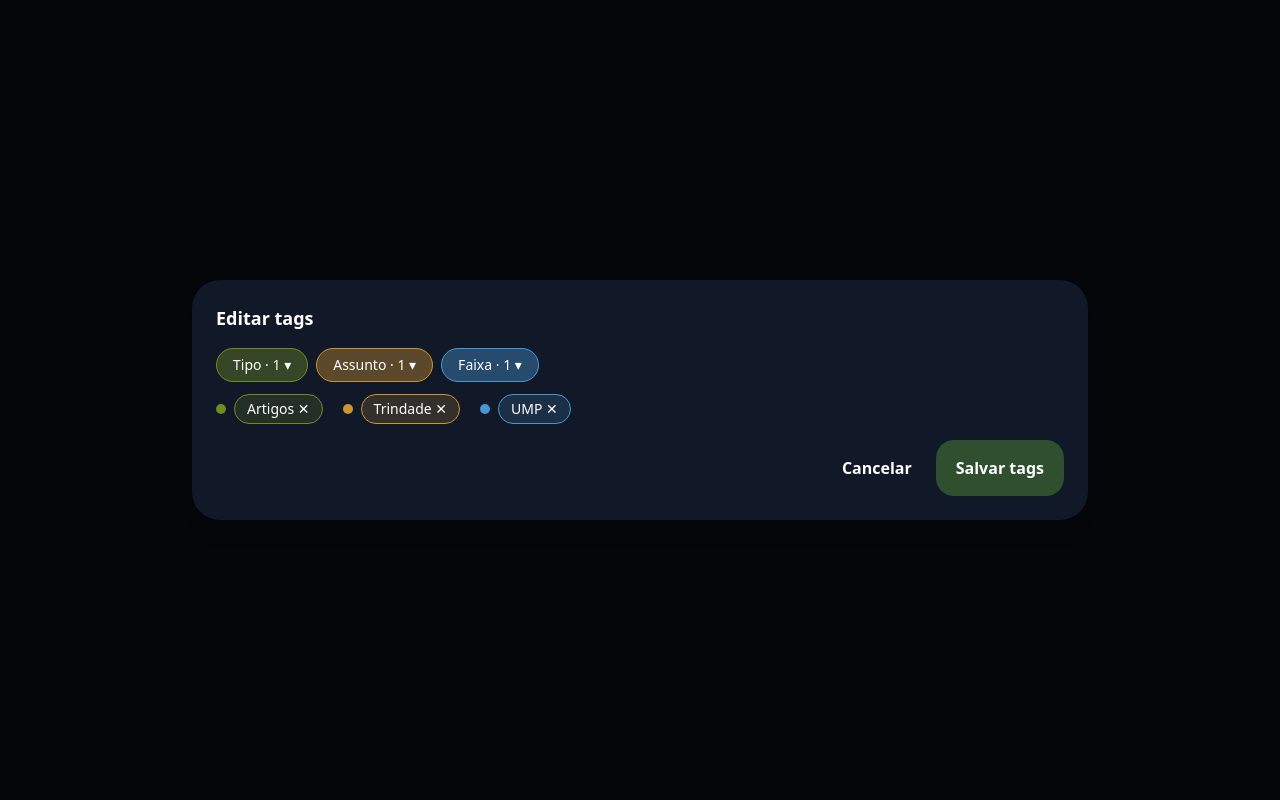
Test: TagEditDialog › não deixa esvaziar um tipo de tag
Click the button "Tipo · 1 ▾".
click(262, 365)  # box [216,348,308,382]
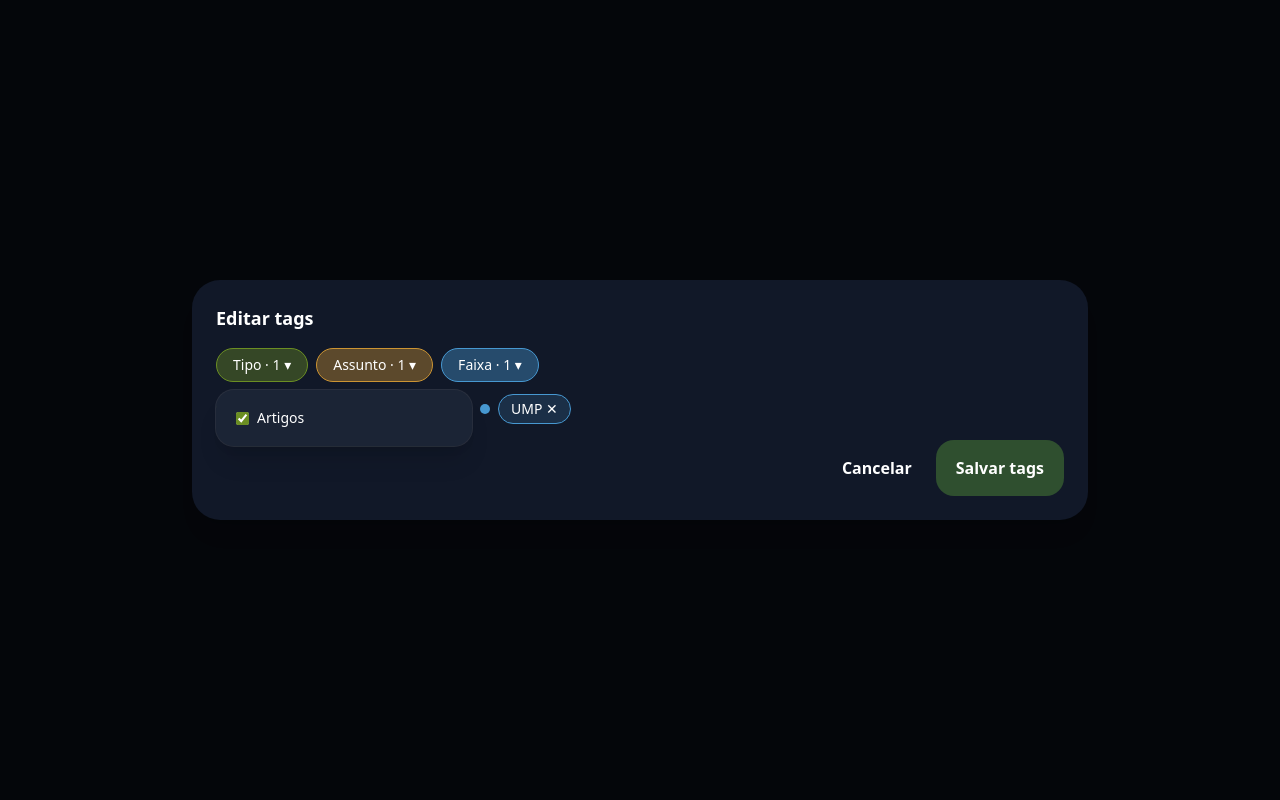
Click the button "Assunto · 1 ▾".
click(375, 365)  # box [316,348,433,382]
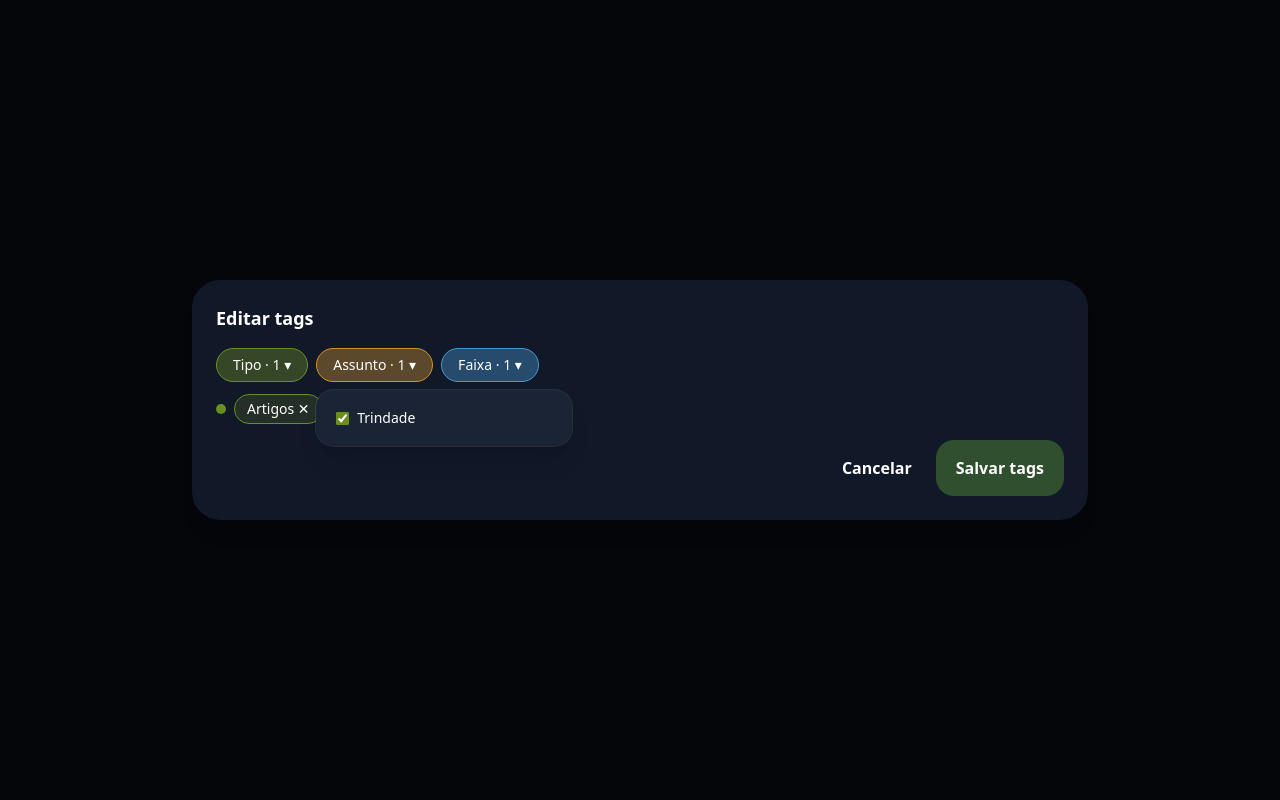
Click the button "Faixa · 1 ▾".
click(490, 365)  # box [441,348,539,382]
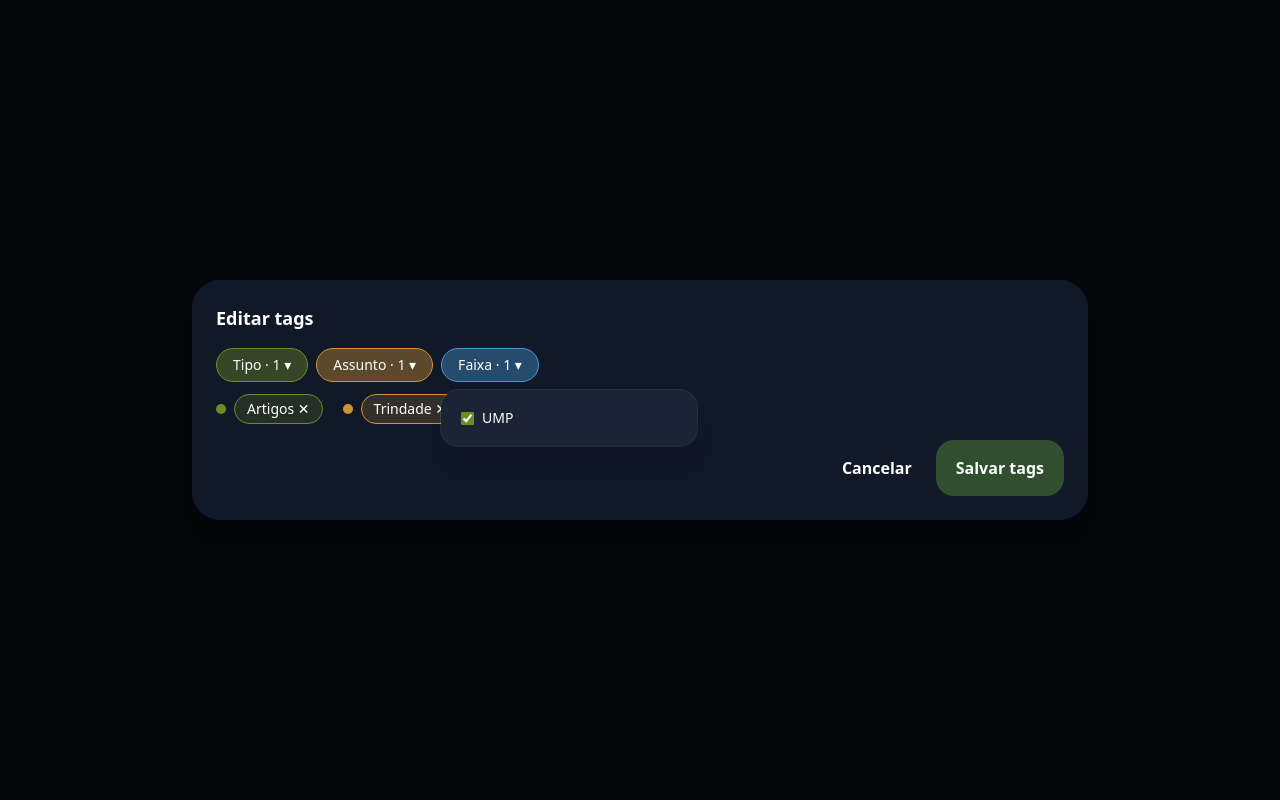
Click the checkbox labelled "UMP".
click(468, 418)  # box [461,412,474,424]
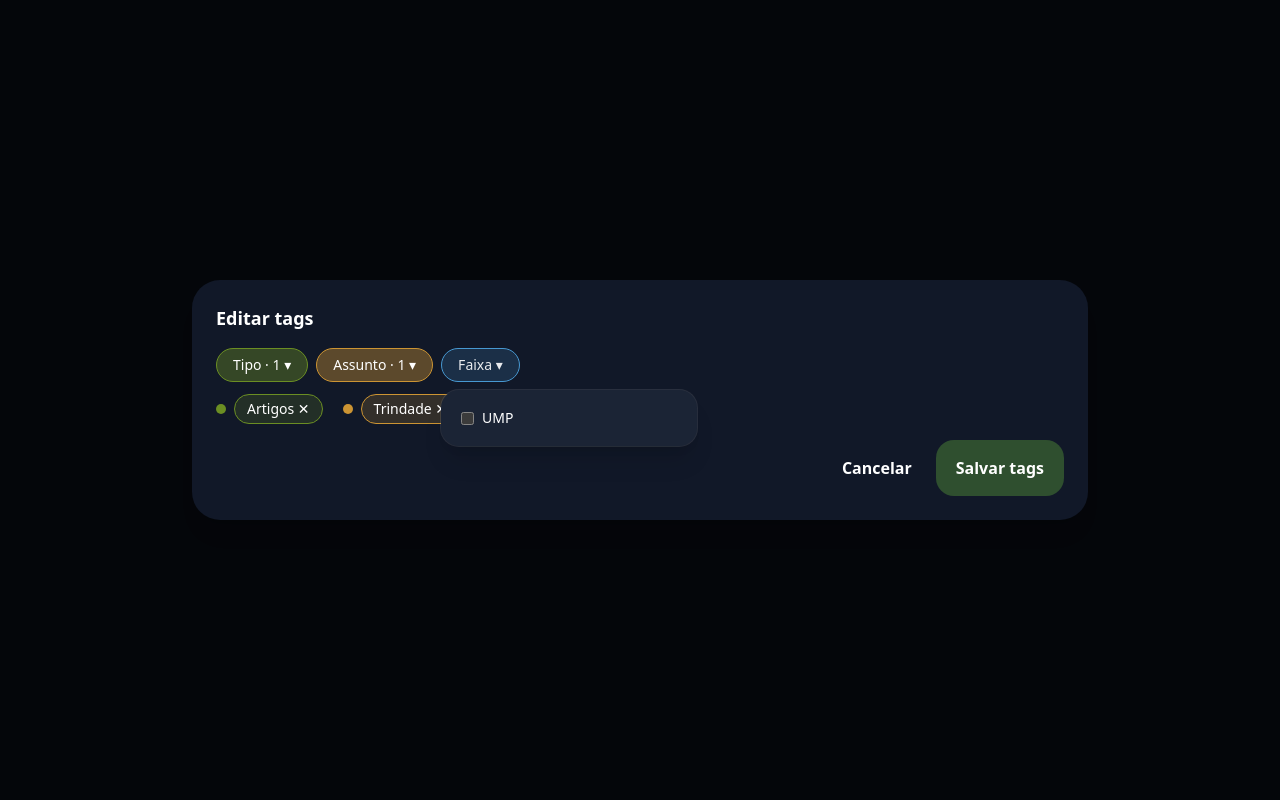
Click the button "Salvar tags".
click(1000, 468)  # box [936,440,1064,496]
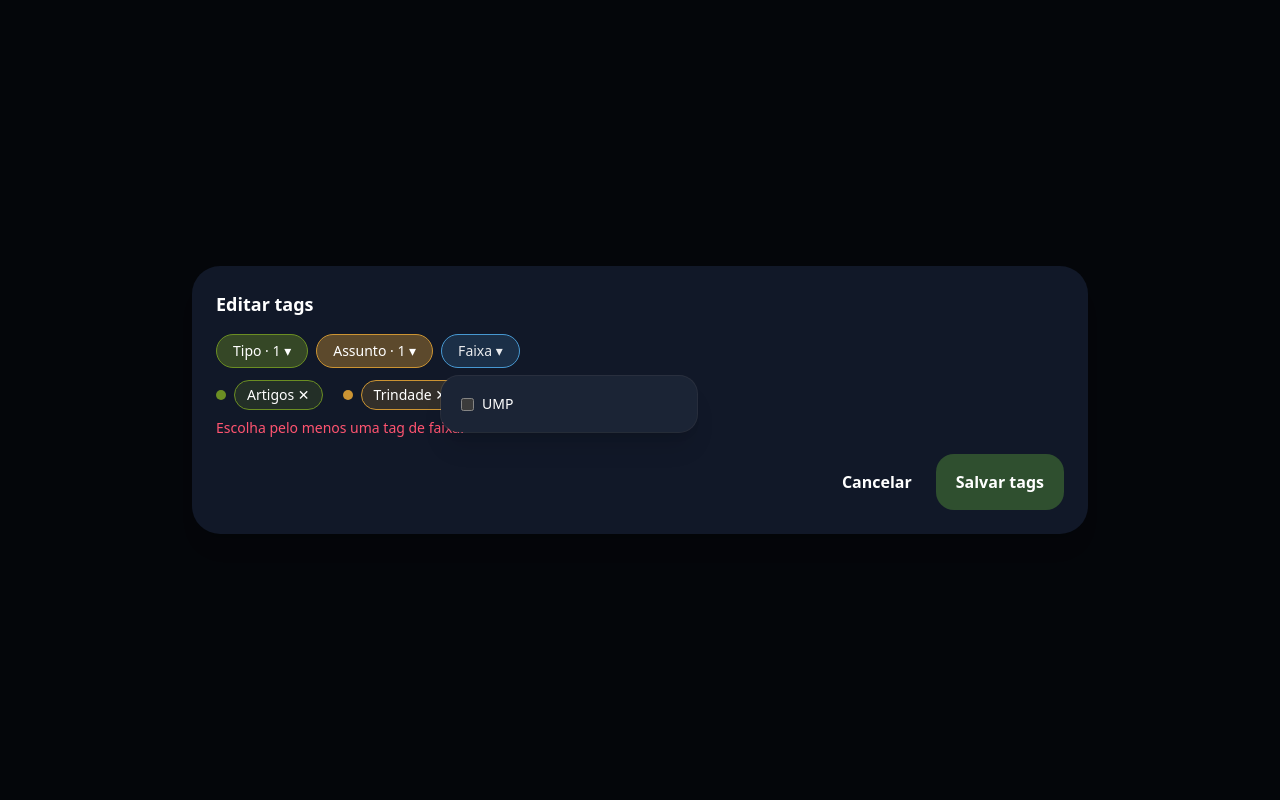
Now the message reads "Escolha pelo menos uma tag de faixa.", box [216,418,464,437]
